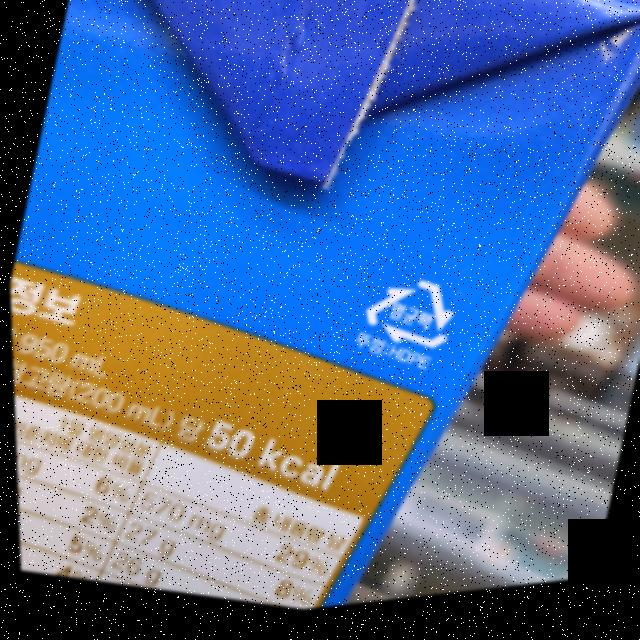SterilizedPack: (350, 270, 463, 371)
